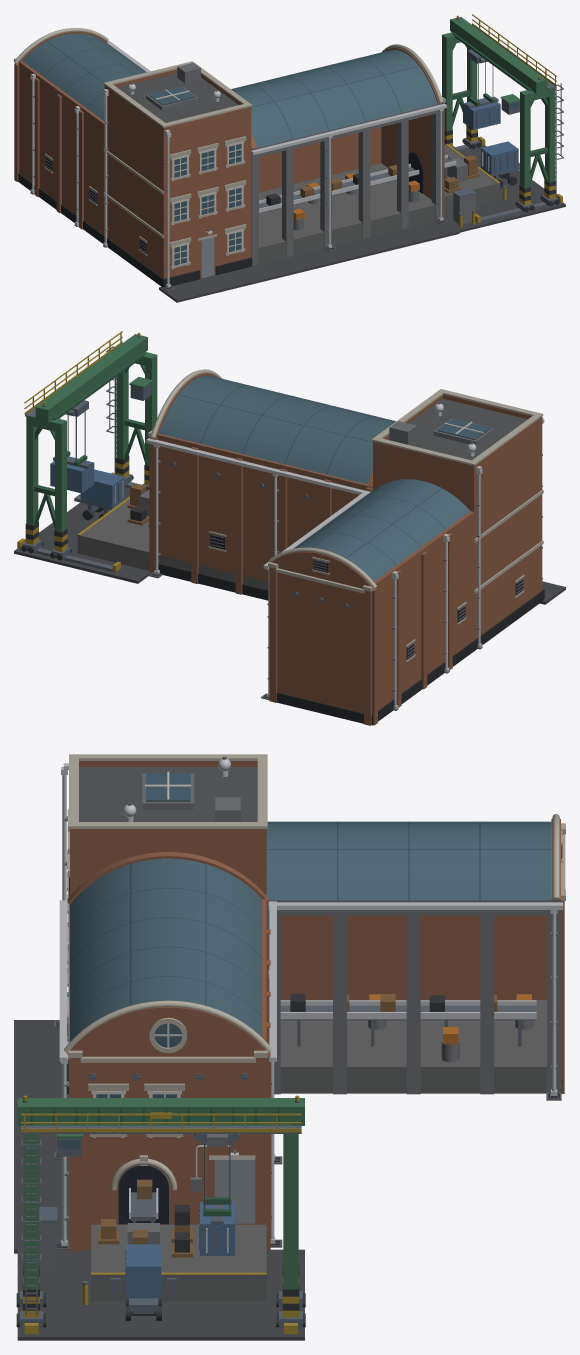
Rendered from assembly_plant_lvl3.glb.
3 views of the same model, one above another, from view 1: azimuth 30°, elevation 25°; view 2: azimuth 150°, elevation 25°; view 3: azimuth 270°, elevation 25° (orthographic). The views are drawn at different scales.
Visible parts, largest first — view 1: assembly_plant, assembly_plant_Glass; view 2: assembly_plant, assembly_plant_Glass; view 3: assembly_plant, assembly_plant_Glass.
Boxes of the visible parts, x1,y1,x2,y2 form: assembly_plant: [14, 14, 565, 302]; assembly_plant_Glass: [22, 33, 518, 265]; assembly_plant: [14, 331, 565, 725]; assembly_plant_Glass: [159, 375, 490, 581]; assembly_plant: [14, 754, 565, 1340]; assembly_plant_Glass: [57, 773, 551, 1148].
Bounding box in the file's own units: 1 × 0.4153 × 0.7362.
